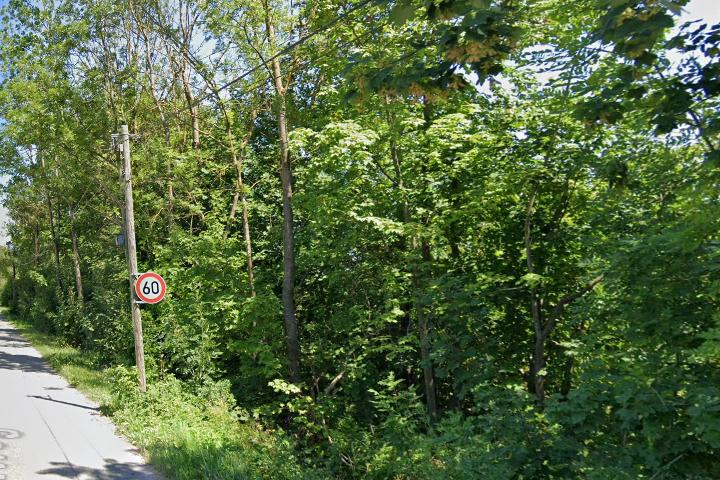traffic_sign: (134, 272, 166, 304)
